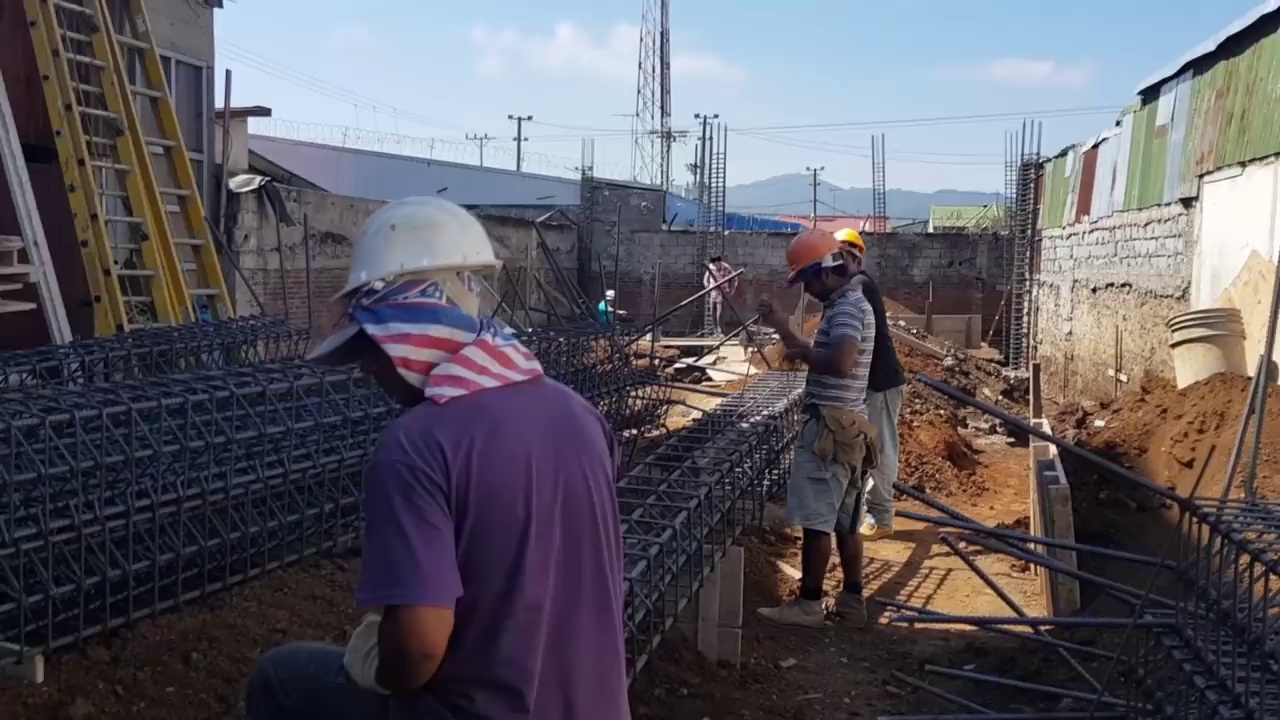helmet: (326, 188, 501, 299), (785, 227, 860, 280), (833, 229, 865, 257), (605, 290, 616, 300)
helmet-off: (704, 255, 723, 268)
helmet-on: (328, 192, 500, 391), (784, 227, 857, 301), (833, 228, 866, 273), (604, 289, 616, 307)
person: (303, 191, 634, 720), (767, 230, 880, 622), (831, 210, 904, 540), (705, 255, 745, 336), (597, 289, 628, 324)
